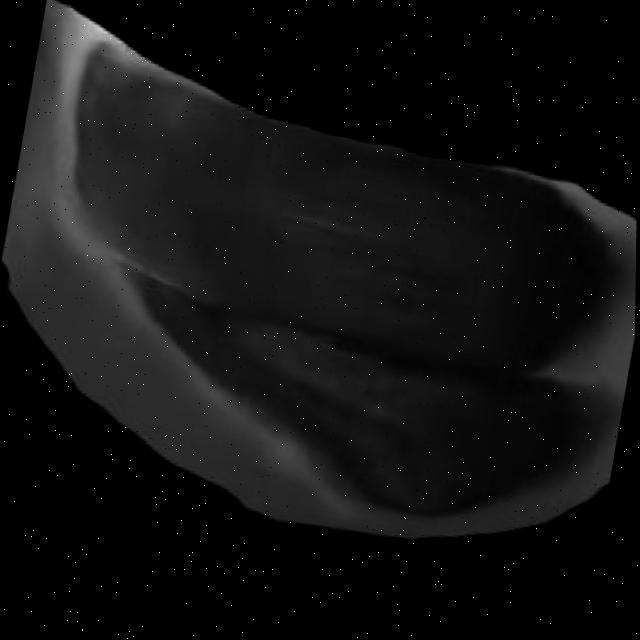mite: (3, 167, 23, 256)
sunburn: (0, 26, 639, 561)
